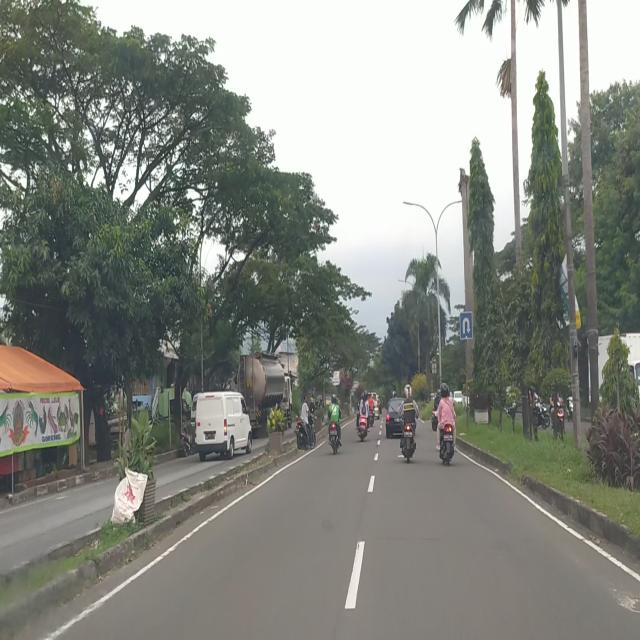Sewer Cover: (373, 535, 450, 543)
